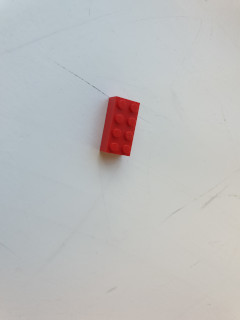2x4 red: (99, 95, 141, 157)
